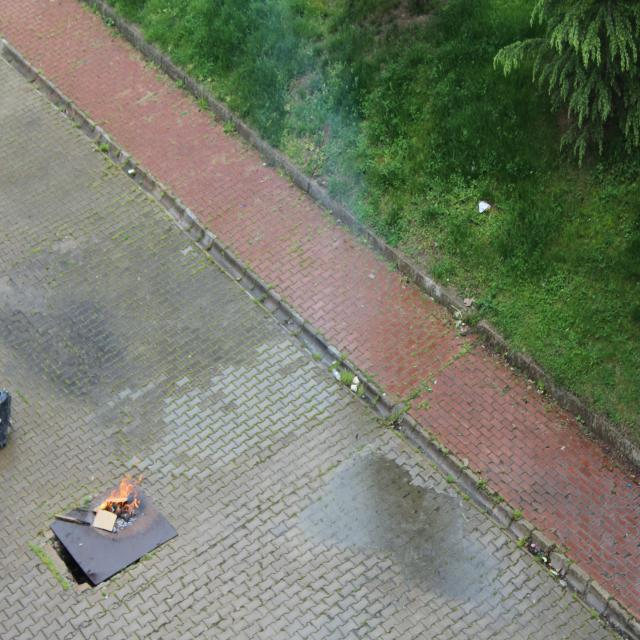fire: (98, 465, 150, 524)
